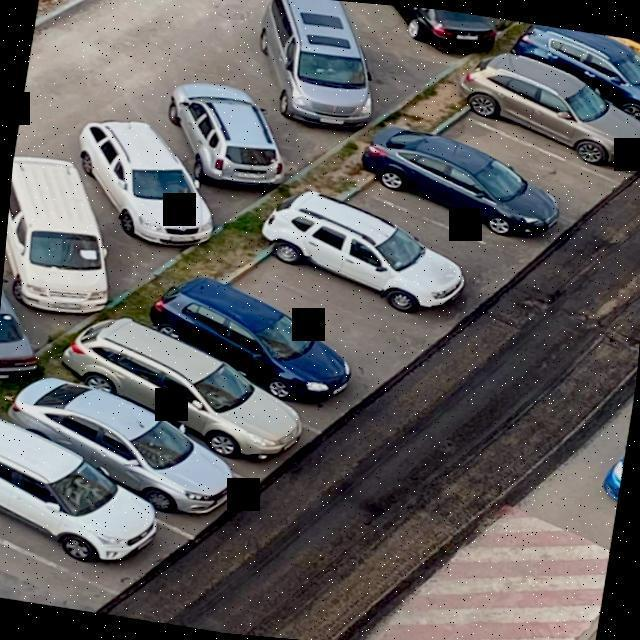car: (51, 308, 340, 488), (0, 375, 256, 533), (240, 185, 498, 339), (316, 125, 584, 272), (135, 282, 371, 423), (0, 438, 180, 605), (448, 54, 640, 188)
free: (183, 251, 443, 394), (301, 182, 528, 306), (423, 108, 627, 228)
